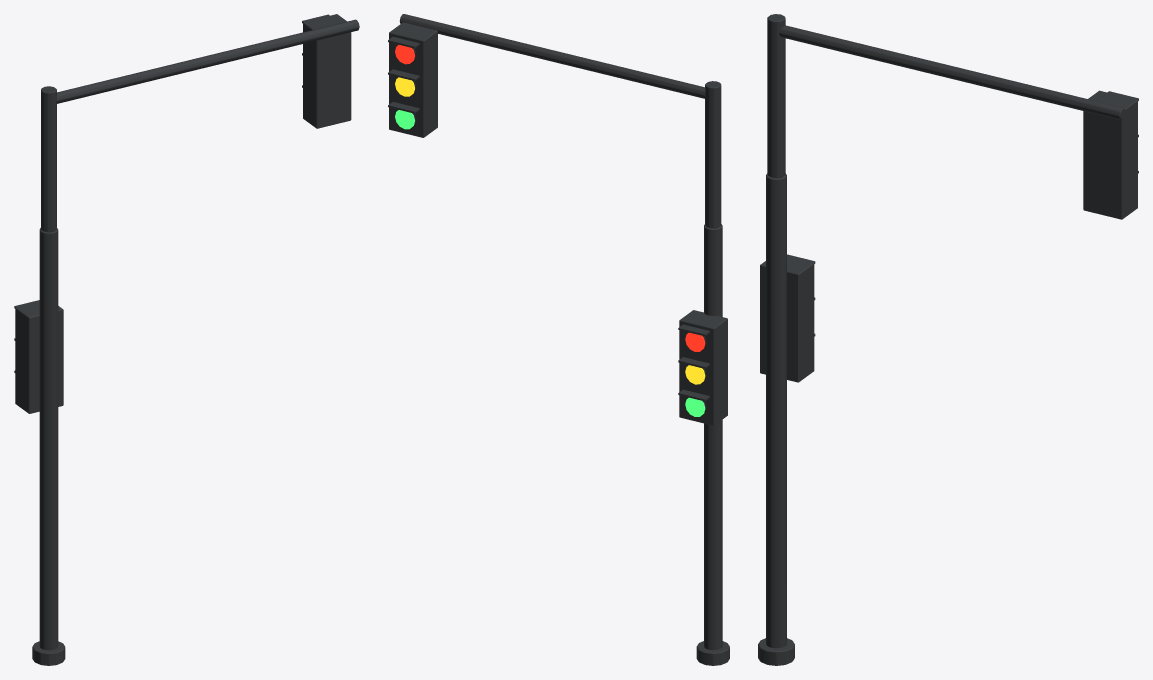
File: prop_traffic_signal.glb
3 renders of one model, left to right at view 1: azimuth 30°, elevation 25°; view 2: azimuth 150°, elevation 25°; view 3: azimuth 330°, elevation 25°, orthographic. The views are drawn at different scales.
Parts seen in each view (by area): view 1: Body; view 2: Body, Amber, Green, Red; view 3: Body.
Boxes of the visible parts, bbox=[...] form: Body: bbox=[14, 14, 359, 665]; Body: bbox=[388, 14, 729, 665]; Amber: bbox=[395, 77, 705, 384]; Green: bbox=[395, 110, 705, 416]; Red: bbox=[395, 45, 705, 351]; Body: bbox=[758, 14, 1138, 665].
Size of the model in its own units: 3.17 by 5.3 by 0.5.
